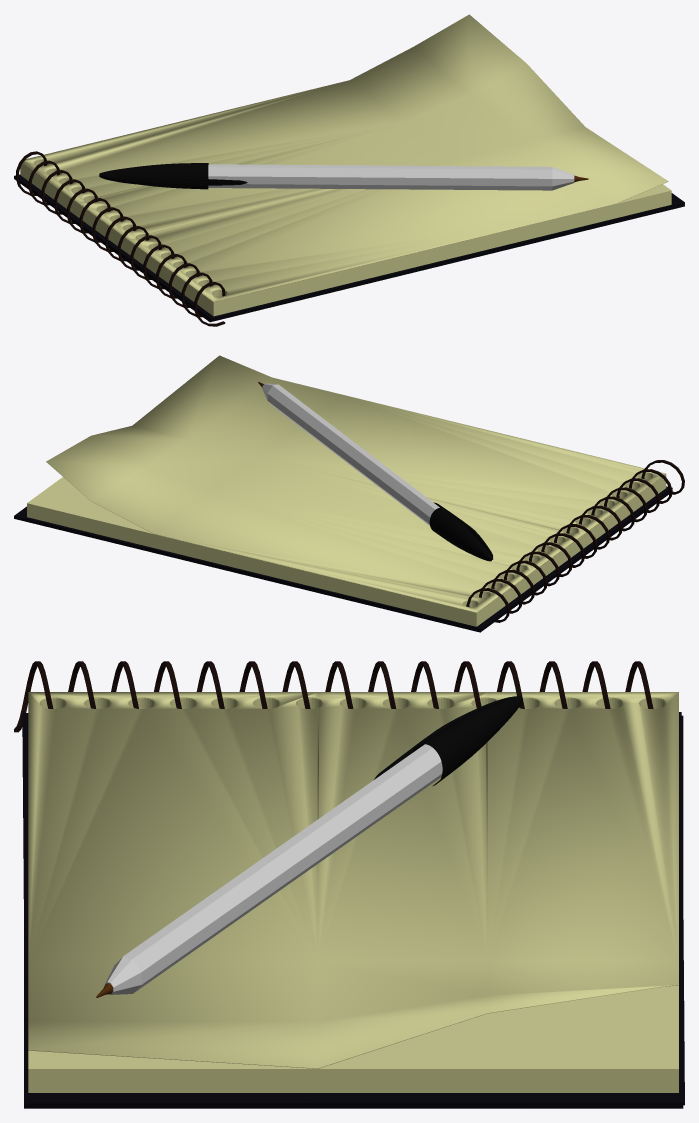
File: note_book.obj
3 views of the same model, one above another, from view 1: azimuth 30°, elevation 25°; view 2: azimuth 150°, elevation 25°; view 3: azimuth 270°, elevation 25° (orthographic). The views are drawn at different scales.
Visible parts, largest first — view 1: Plane.003_paper, Plane.002_paper, Open_Black_Pen_Material.003, Plane_Material.002, Circle_Material.001, Open_Black_Pen_Black; view 2: Plane.003_paper, Plane.002_paper, Open_Black_Pen_Material.003, Plane_Material.002, Circle_Material.001, Open_Black_Pen_Black; view 3: Plane.003_paper, Plane.002_paper, Plane_Material.002, Open_Black_Pen_Material.003, Circle_Material.001, Open_Black_Pen_Black.
Boxes of the visible parts, box(x1,y1,x2,y2) form: Plane.003_paper: box(20, 14, 668, 301); Plane.002_paper: box(20, 159, 671, 316); Open_Black_Pen_Material.003: box(208, 164, 574, 190); Plane_Material.002: box(14, 174, 684, 322); Circle_Material.001: box(15, 151, 225, 326); Open_Black_Pen_Black: box(99, 163, 247, 189); Plane.003_paper: box(46, 355, 665, 612); Plane.002_paper: box(27, 472, 666, 626); Open_Black_Pen_Material.003: box(262, 383, 439, 525); Plane_Material.002: box(14, 486, 672, 632); Circle_Material.001: box(466, 460, 684, 622); Open_Black_Pen_Black: box(429, 502, 493, 561); Plane.003_paper: box(28, 692, 678, 1068); Plane.002_paper: box(28, 698, 678, 1092); Plane_Material.002: box(22, 712, 684, 1108); Open_Black_Pen_Material.003: box(104, 744, 442, 994); Circle_Material.001: box(14, 661, 653, 732); Open_Black_Pen_Black: box(374, 696, 522, 786).
Size of the model in its own units: 0.1442 by 0.018 by 0.1017.
